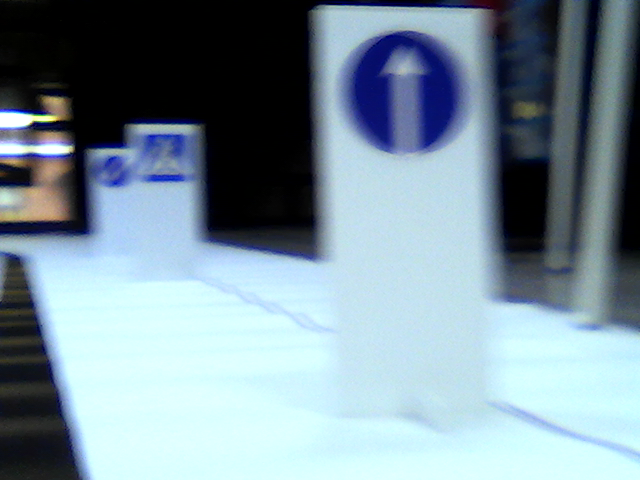forw: (341, 27, 465, 157)
pesh: (139, 131, 192, 184)
